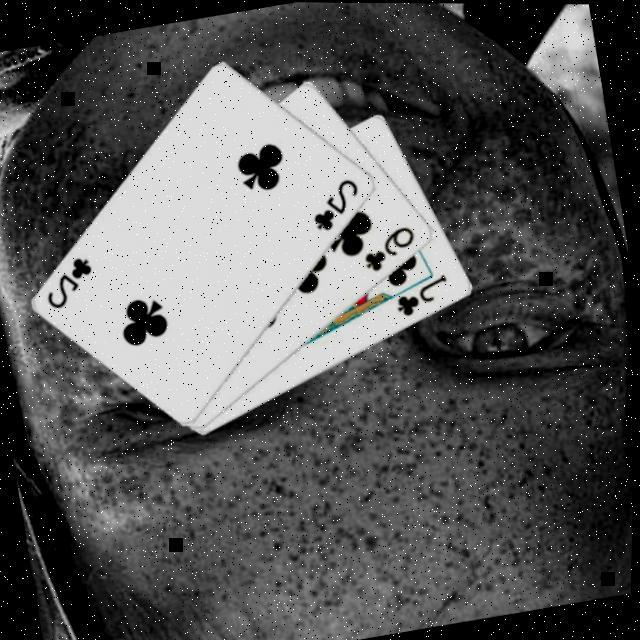2C: (303, 174, 368, 237), (38, 253, 102, 316)
9C: (356, 222, 424, 278)
JC: (389, 270, 456, 322)
